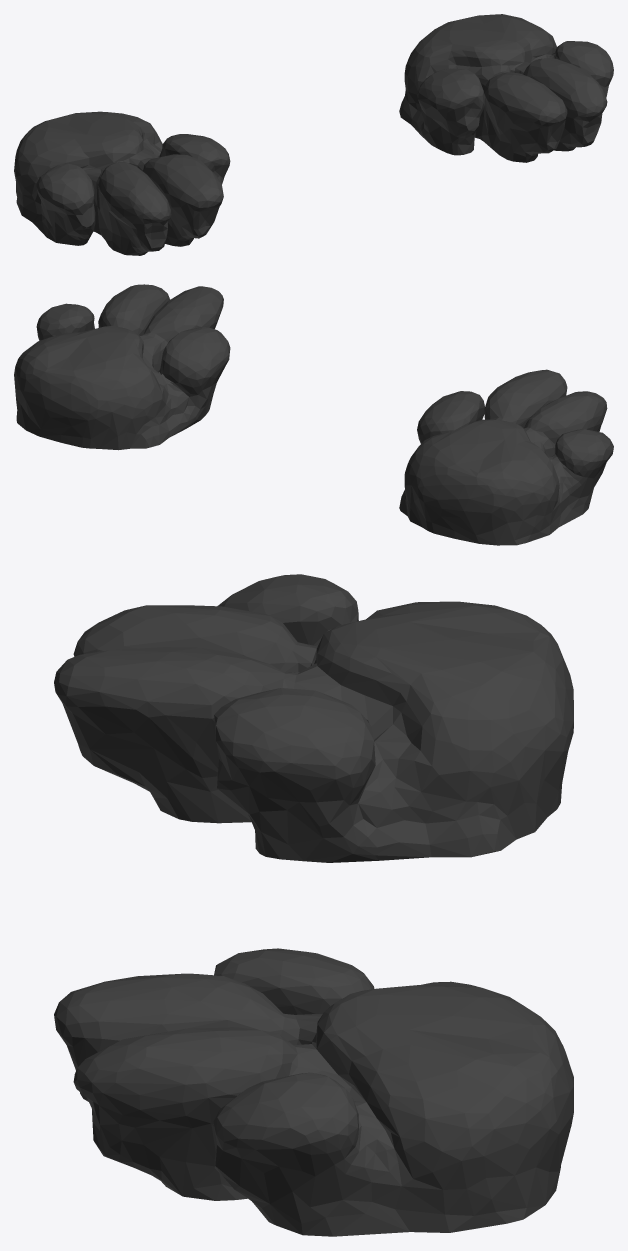
Rendered from FL_details_toes.glb.
The picture shows the model from 3 angles, top to bottom: view 1: azimuth 30°, elevation 25°; view 2: azimuth 150°, elevation 25°; view 3: azimuth 270°, elevation 25°; orthographic projection. The views are drawn at different scales.
Visible parts, largest first — view 1: FL_details_toes; view 2: FL_details_toes; view 3: FL_details_toes.
Part boxes in pixels (left/top/right/bottom): FL_details_toes: left=14, top=14, right=613, bottom=255; FL_details_toes: left=14, top=284, right=613, bottom=545; FL_details_toes: left=54, top=574, right=573, bottom=1236.
Bounding box in the file's own units: 0.00496 × 0.000656 × 0.00198.
Materials: 1 (1 with a texture image).
